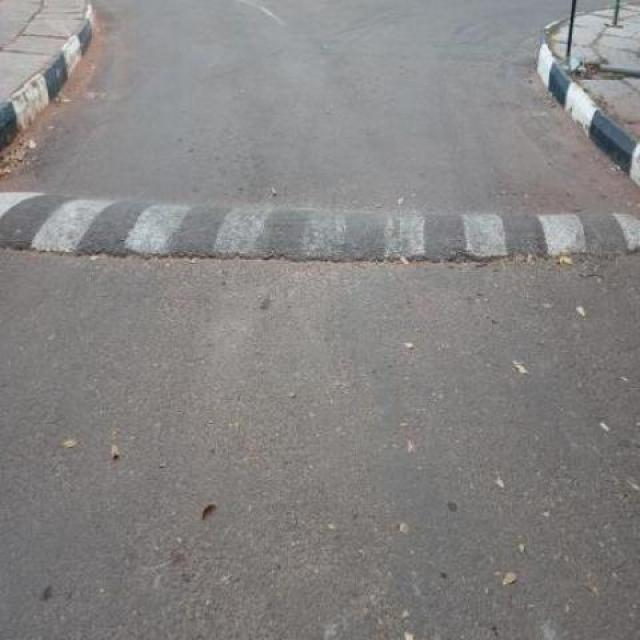Speed Bump: (0, 186, 639, 272)
